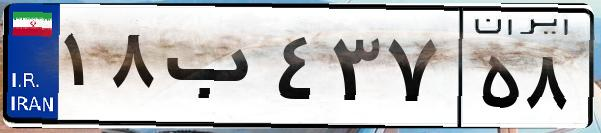1: (57, 26, 110, 100)
3: (330, 28, 385, 110)
4: (270, 28, 330, 110)
5: (475, 38, 525, 113)
7: (385, 28, 445, 110)
8: (525, 38, 570, 115), (110, 28, 158, 98)
ب: (158, 20, 270, 120)
